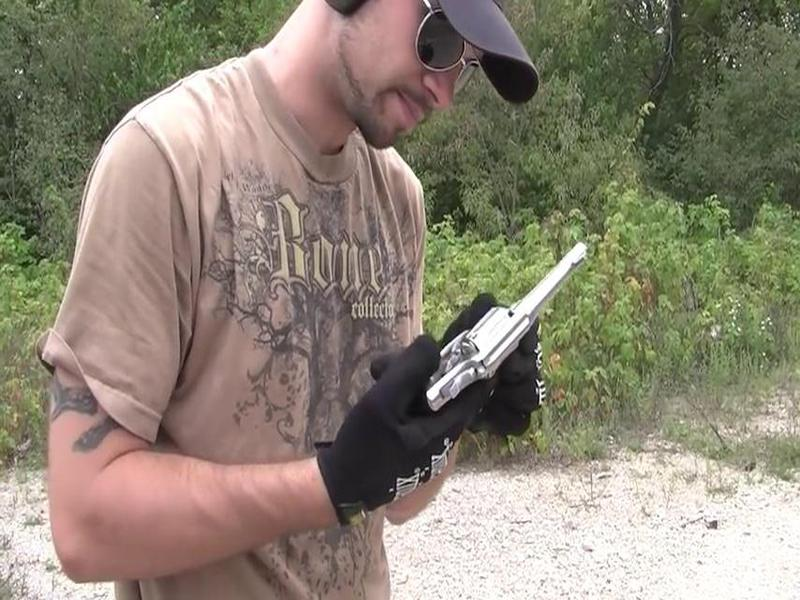Revolver: (398, 235, 602, 407)
